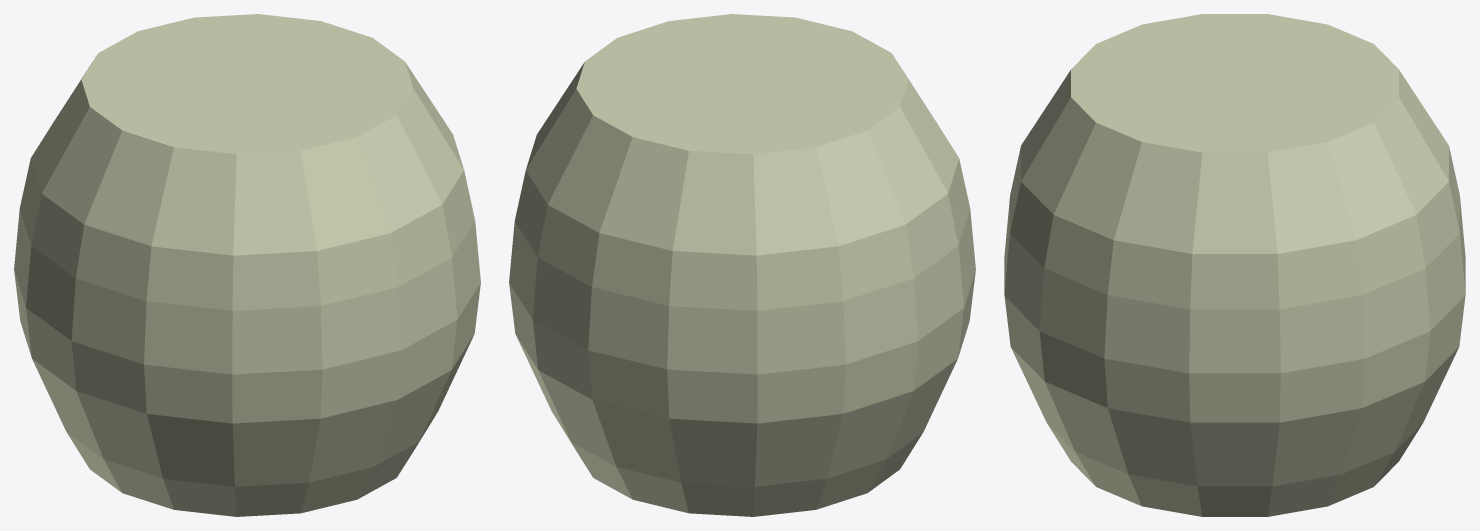
Rendered from Hamal_Habitation_1_Collider.obj.
The picture shows the model from 3 angles, left to right: view 1: azimuth 30°, elevation 25°; view 2: azimuth 150°, elevation 25°; view 3: azimuth 270°, elevation 25°; orthographic projection.
Visible parts, largest first — view 1: Hamal_Habitation_1_Collider; view 2: Hamal_Habitation_1_Collider; view 3: Hamal_Habitation_1_Collider.
Boxes of the visible parts, x1,y1,x2,y2 form: Hamal_Habitation_1_Collider: [14, 14, 480, 516]; Hamal_Habitation_1_Collider: [509, 14, 975, 516]; Hamal_Habitation_1_Collider: [1004, 14, 1465, 516].
Bounding box in the file's own units: 1.32 × 1.15 × 1.32.
